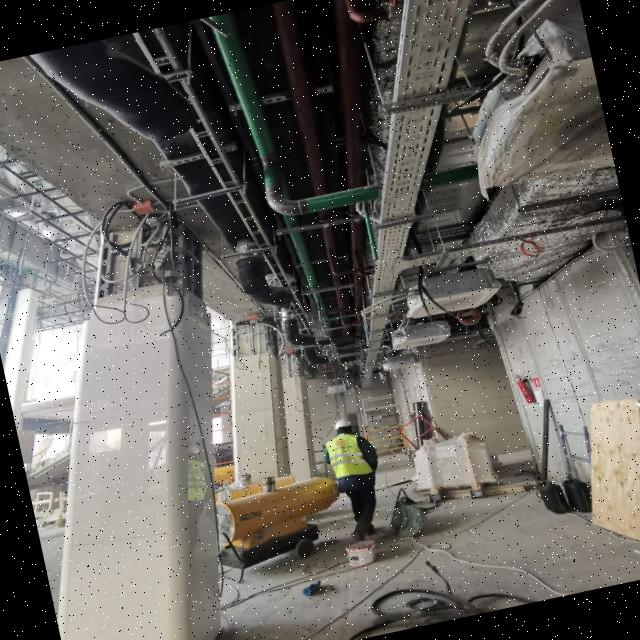Helmet: (334, 418, 356, 438)
